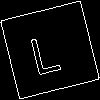L: (25, 24, 63, 76)
